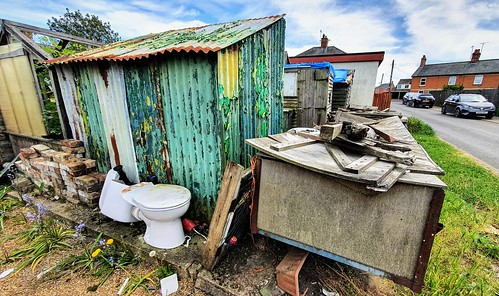building: (54, 19, 296, 244), (413, 58, 499, 93)
car: (439, 92, 496, 125), (402, 90, 432, 110)
sky: (138, 1, 495, 52)
street: (403, 106, 499, 179)
toilet: (99, 164, 189, 250)
trash: (241, 102, 440, 273)
